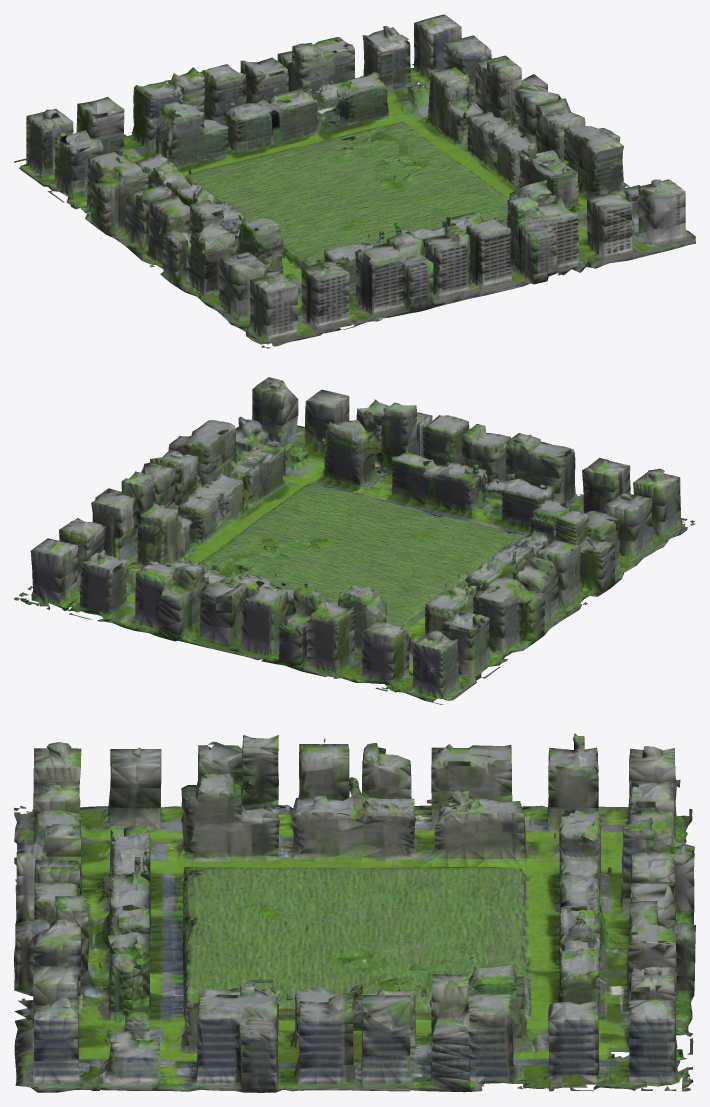
The model's file is city.glb.
3 renders of one model, top to bottom at view 1: azimuth 30°, elevation 25°; view 2: azimuth 150°, elevation 25°; view 3: azimuth 270°, elevation 25°, orthographic. The views are drawn at different scales.
Parts seen in each view (by area): view 1: Mesh_0; view 2: Mesh_0; view 3: Mesh_0.
Part boxes in pixels (bbox=[...]): Mesh_0: bbox=[14, 14, 695, 348]; Mesh_0: bbox=[14, 377, 695, 704]; Mesh_0: bbox=[14, 733, 695, 1092].
Bounding box in the file's own units: 2 × 0.3024 × 2.
Materials: 1 (1 with a texture image).
